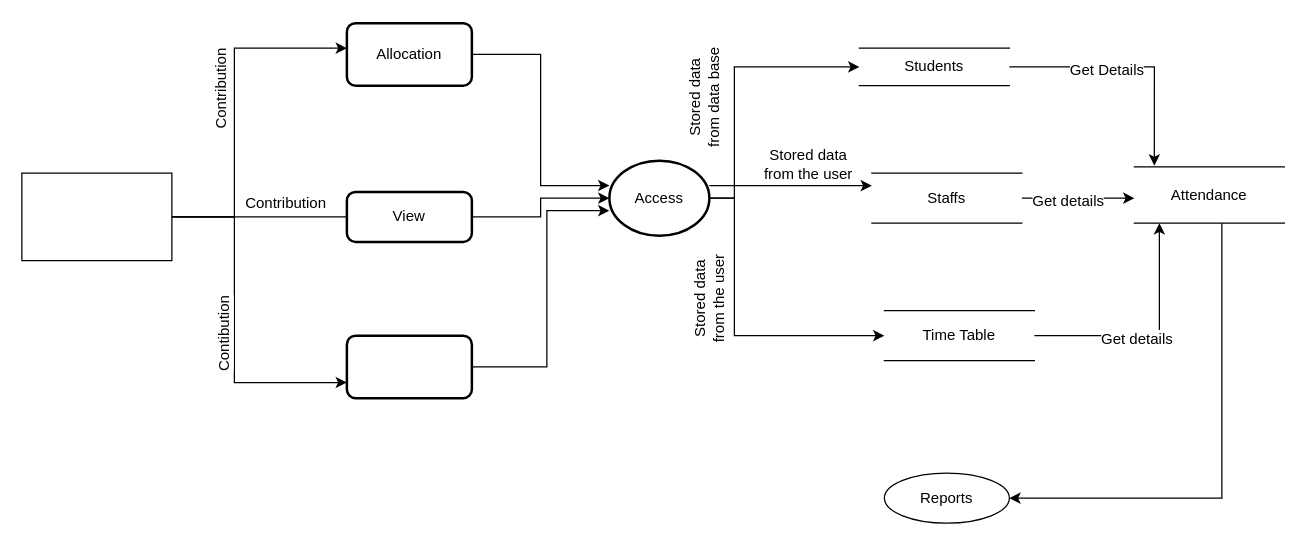
Some shapes in this 1306 by 545 pixel diagram are drawn without their labels. The shapes that lost their labels are listed below. From the top down, each one's box as (x1, y1, x2, y2) in pixels, then its label:
(21, 172, 172, 261): Admin
(345, 334, 472, 399): Update
